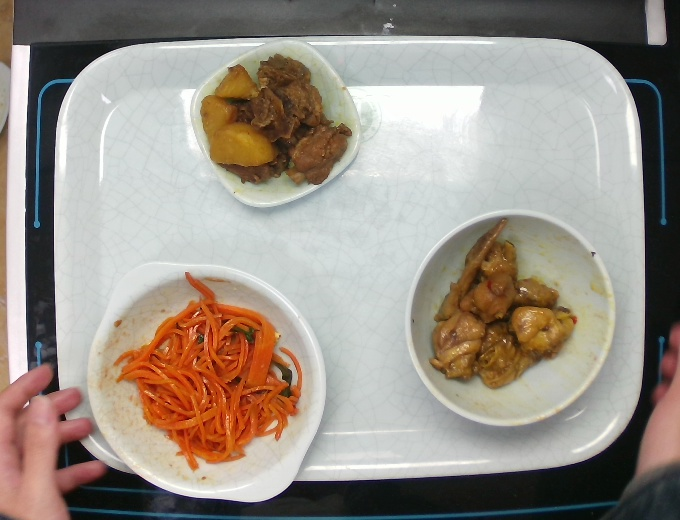JYsf-Fan_Wan: (402, 206, 619, 430)
JYsf-Shuang_Er_Wan: (84, 259, 329, 505)
JYsf-Si_Fang_Die: (187, 36, 361, 209)
